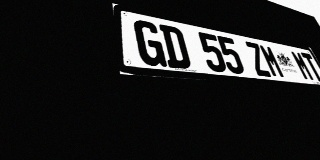5: (197, 32, 229, 73), (216, 35, 247, 75)
D: (159, 24, 192, 70)
G: (133, 19, 167, 67)
M: (258, 44, 286, 78), (290, 50, 315, 81)
T: (300, 52, 320, 82)
Z: (244, 41, 272, 77)
